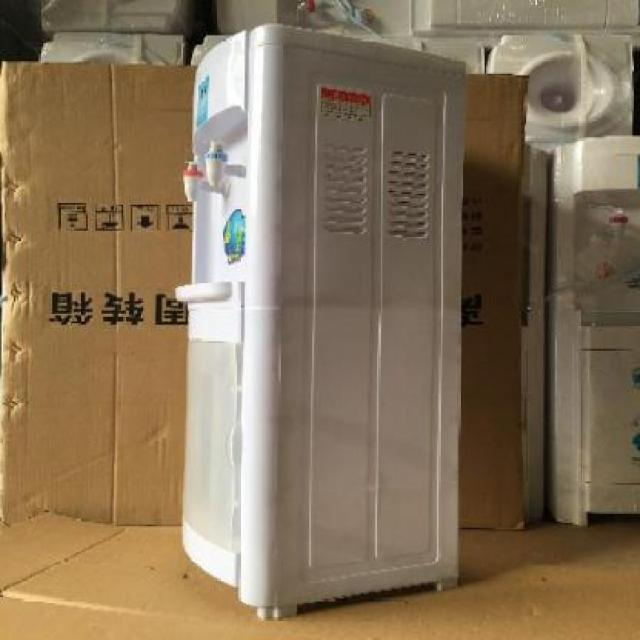cooler: (175, 18, 470, 624)
